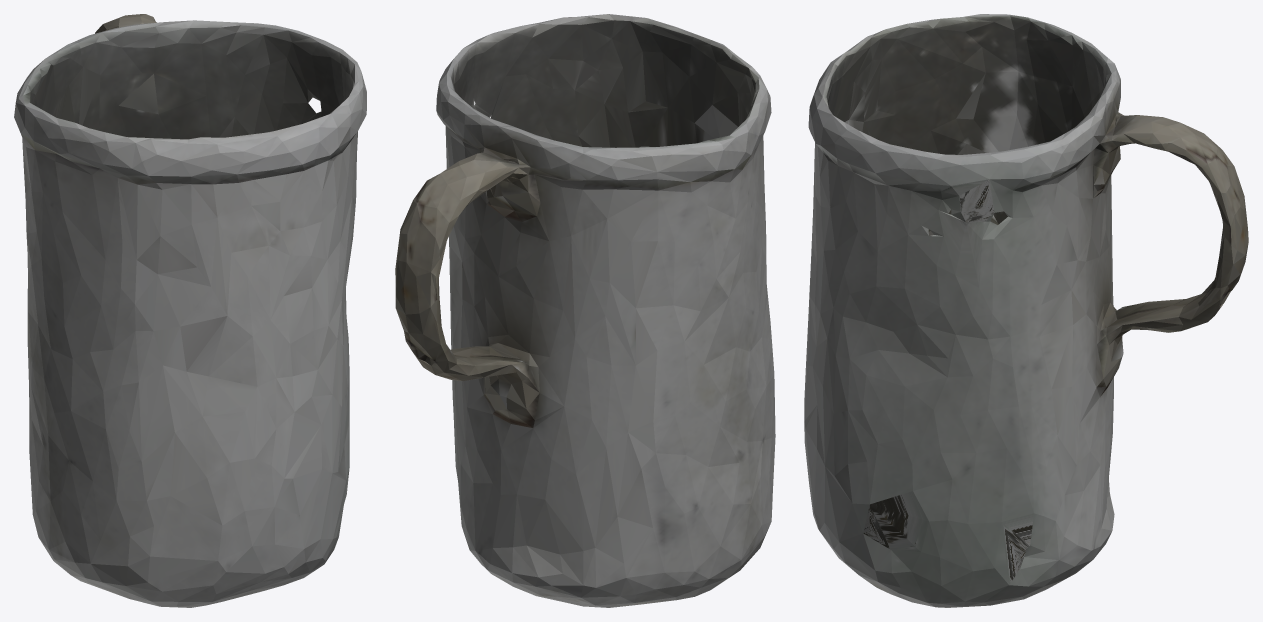
The model's file is 9783B00D-3617-1846-8B34-BA909DCBA457_512.glb.
3 renders of one model, left to right at view 1: azimuth 30°, elevation 25°; view 2: azimuth 150°, elevation 25°; view 3: azimuth 270°, elevation 25°, orthographic.
Visible parts, largest first — view 1: Messbecher_1k; view 2: Messbecher_1k; view 3: Messbecher_1k.
Part boxes in pixels (x1=…): Messbecher_1k: x1=14, y1=14, x2=366, y2=607; Messbecher_1k: x1=395, y1=14, x2=775, y2=607; Messbecher_1k: x1=804, y1=14, x2=1248, y2=607.
Size of the model in its own units: 0.0657 by 0.1004 by 0.0836.
1 material, 1 textured.
